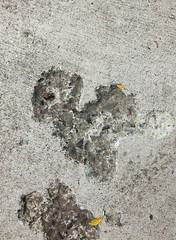Spalling: (30, 65, 138, 183), (16, 183, 100, 240), (139, 110, 176, 140), (105, 210, 122, 227)
